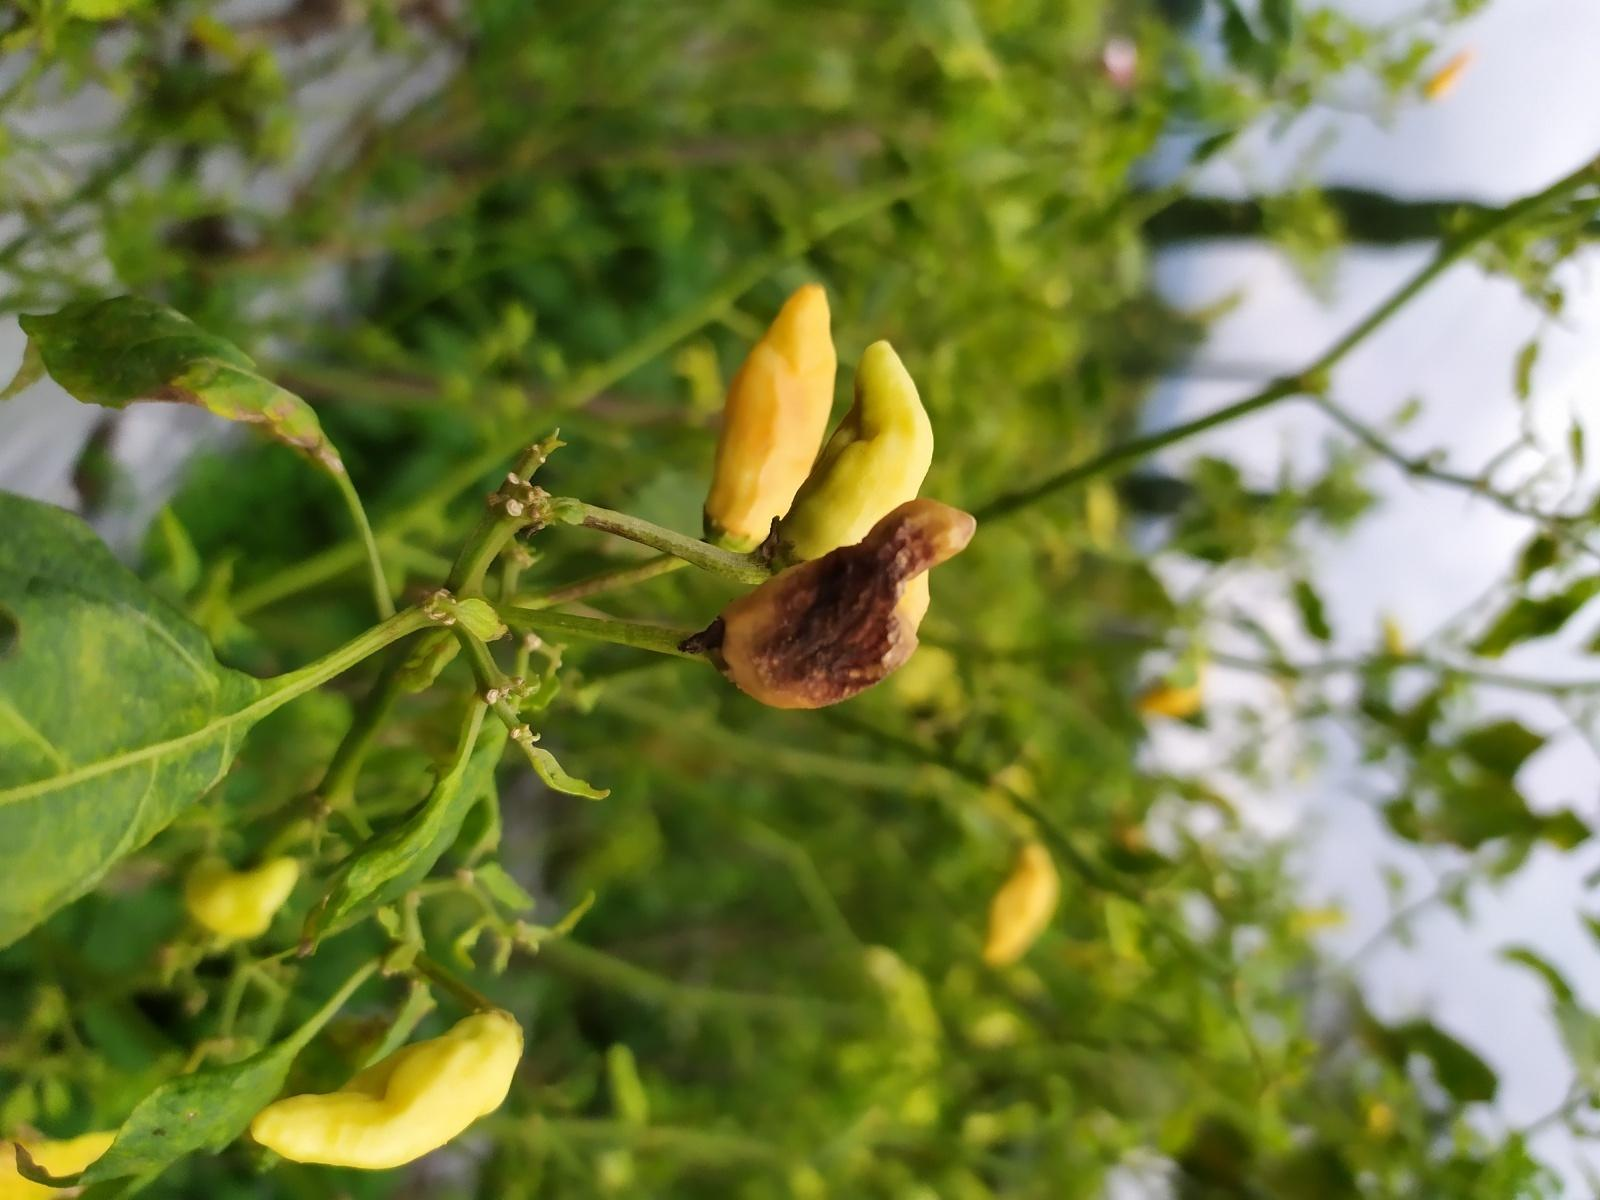antraknosa: (715, 498, 978, 710)
cabai_normal: (251, 1013, 525, 1170), (702, 282, 838, 544), (778, 338, 934, 564), (177, 849, 303, 940)
